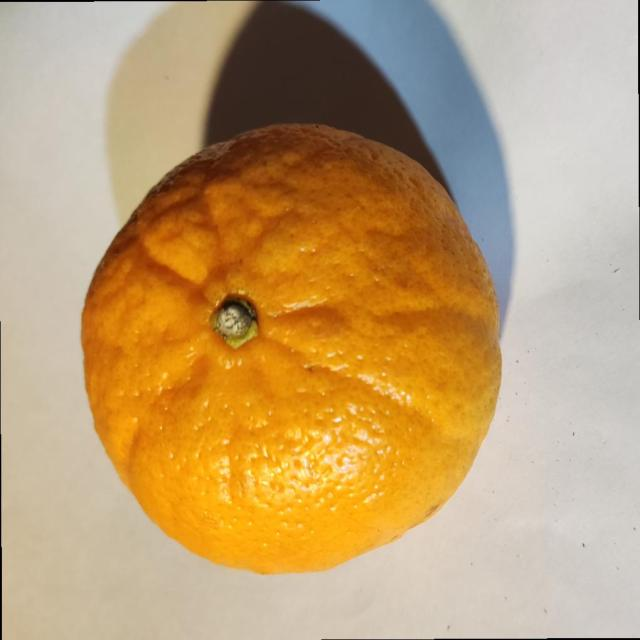fresh orange: (80, 121, 503, 575)
